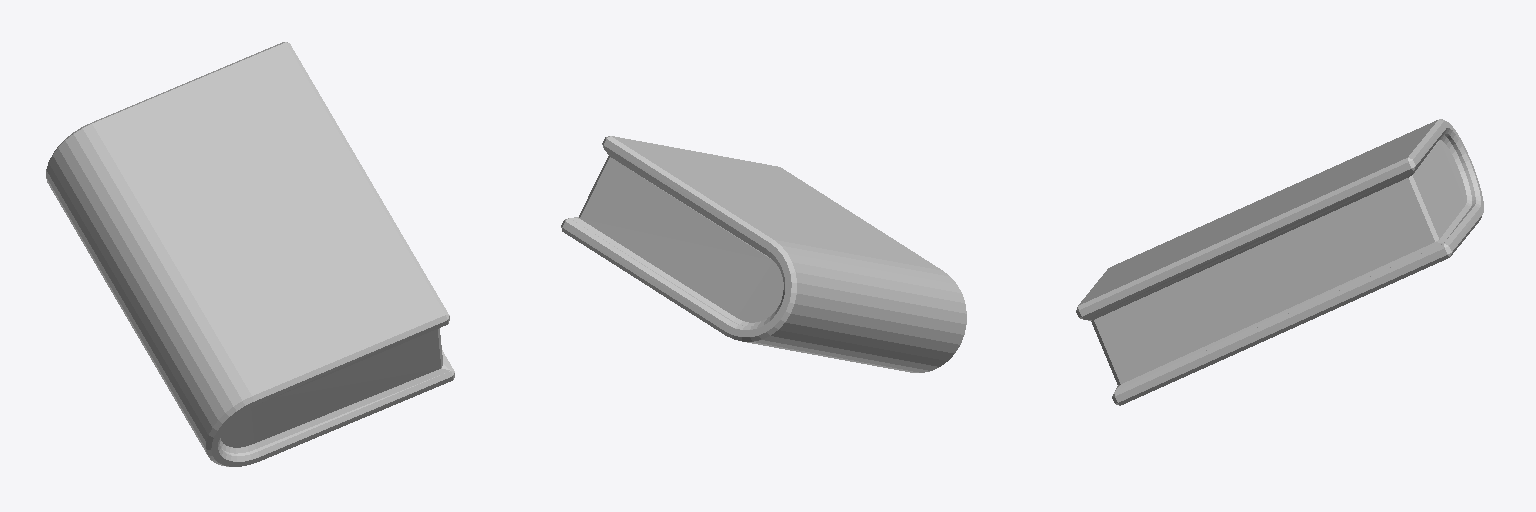
Rendered from modelo-libro.obj.
The picture shows the model from 3 angles: view 1: azimuth 30°, elevation 25°; view 2: azimuth 150°, elevation 25°; view 3: azimuth 270°, elevation 25°; orthographic projection.
Parts seen in each view (by area): view 1: Cylinder; view 2: Cylinder; view 3: Cylinder.
Part boxes in pixels (x1,y1,x2,y2): Cylinder: (46,42,454,466); Cylinder: (561,136,966,372); Cylinder: (1076,119,1483,405).
Bounding box in the file's own units: 5.21 × 5.82 × 7.48.